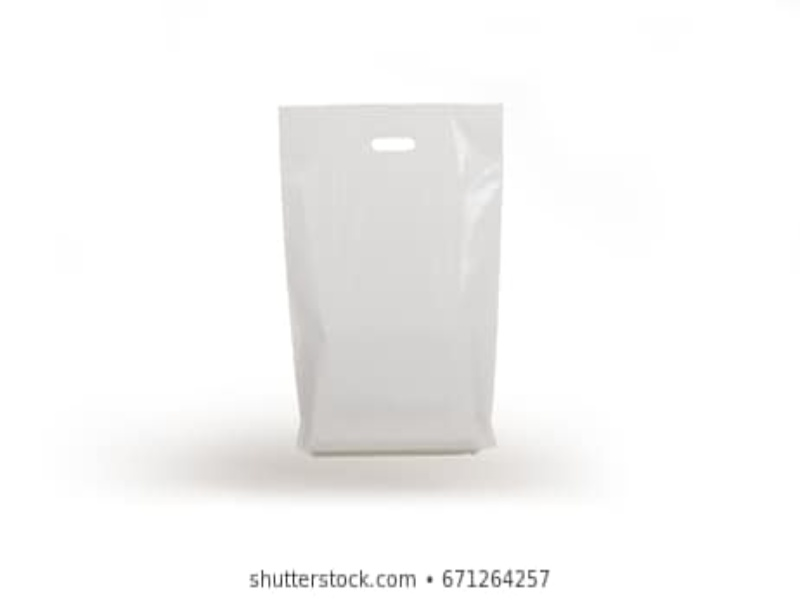plastic-bag: (276, 103, 513, 460)
